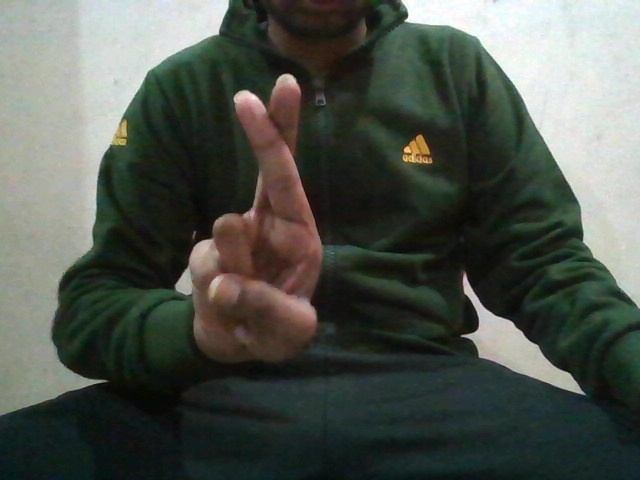R: (164, 76, 345, 361)
